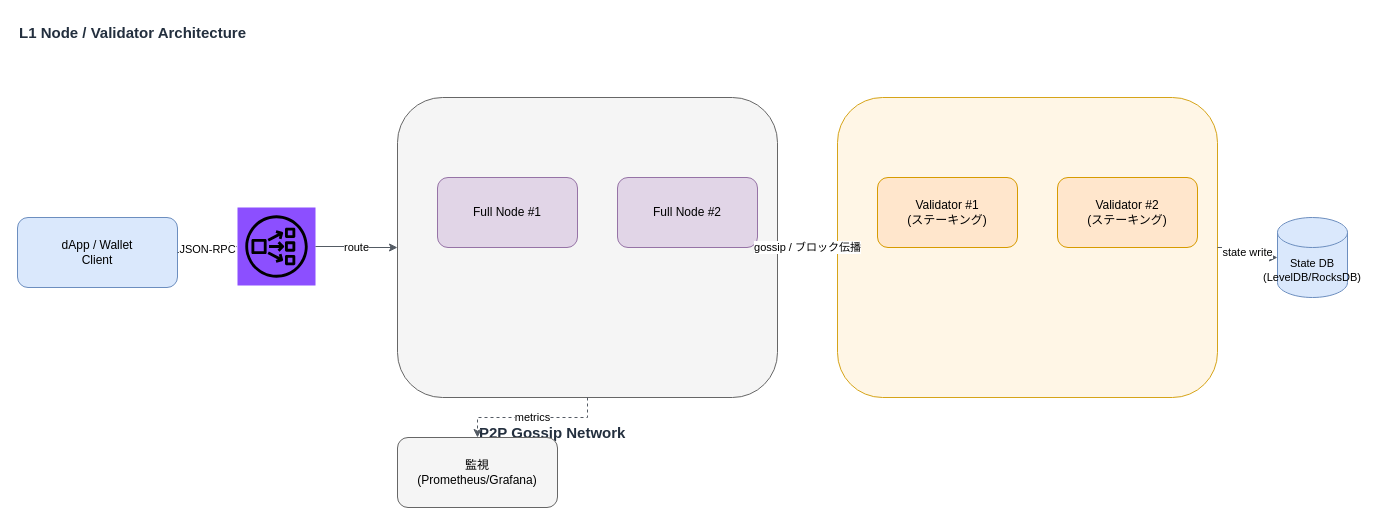
Image size: 1379x525. Some labels were removed from this diagram. Here are the shapes that lost their labels. From the top down, the box of each, then its label:
(237, 207, 315, 285): Load Balancer
(396, 96, 778, 398): RPC Node Pool (Full Nodes)
(836, 96, 1218, 398): Validator Set
